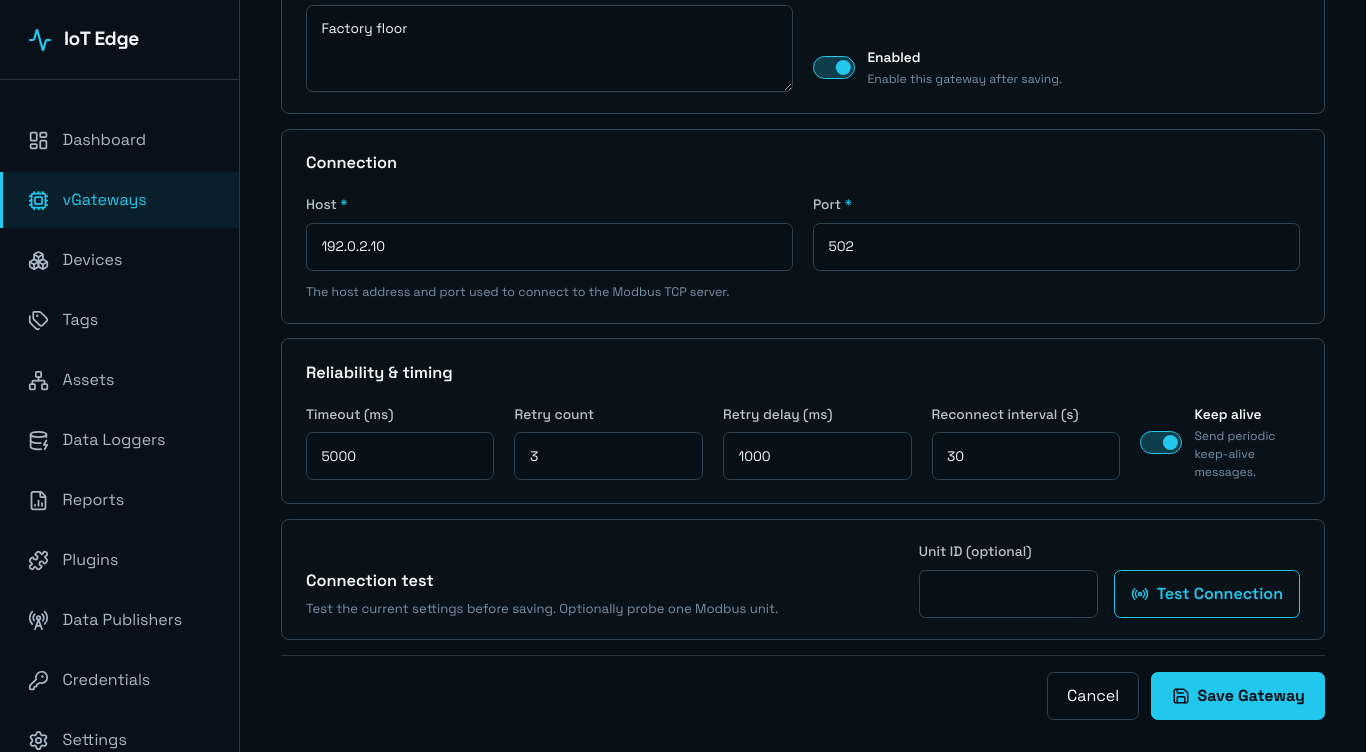
it: VGatewayFormPage › tests current edit-form settings with an optional unit ID
The image size is (1366, 752).
(page scrolled)
Type "7" into the number field labelled "Unit ID (optional)" at (1008, 594), box [919, 570, 1098, 618]
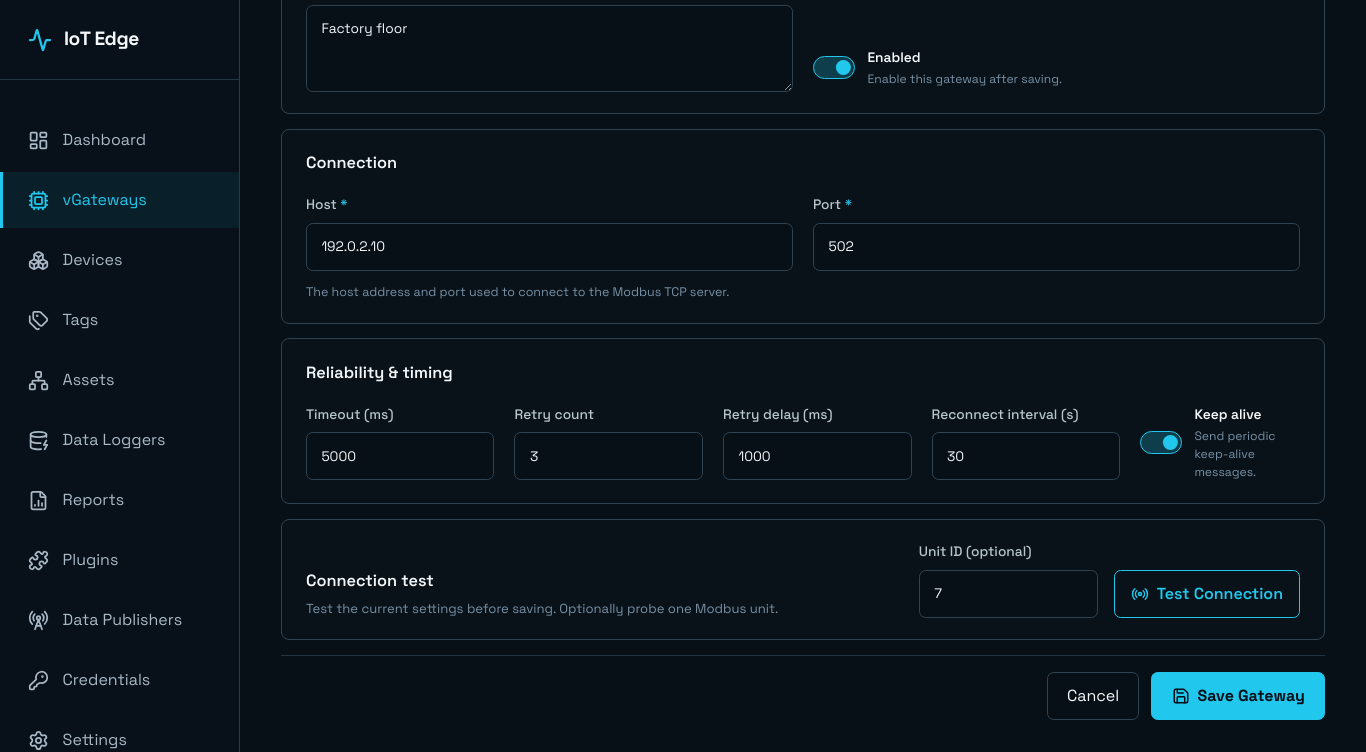
Click the button "Test Connection" at (1207, 594), box [1114, 570, 1300, 618]
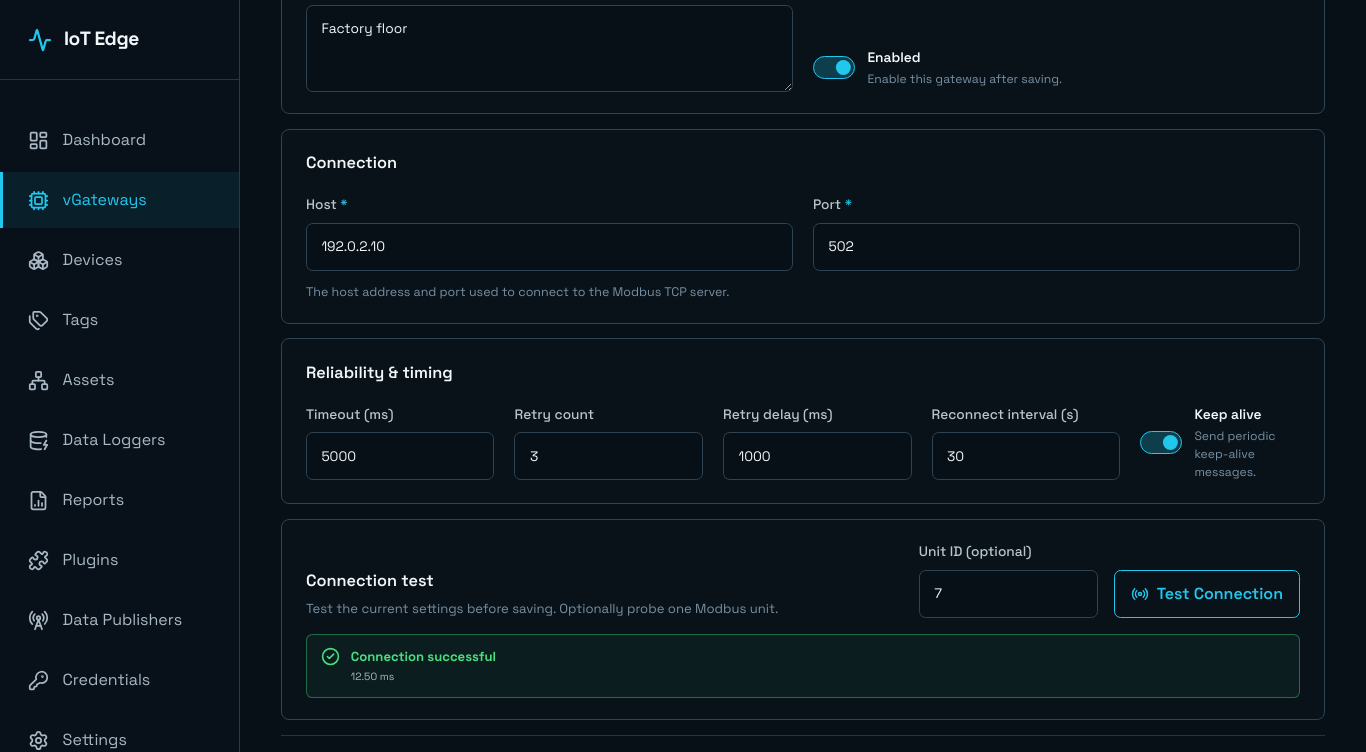
Result: the text "Connection successful" is shown at [351, 647, 496, 666]
Result: the text "12.50 ms" is shown at [351, 670, 394, 683]
